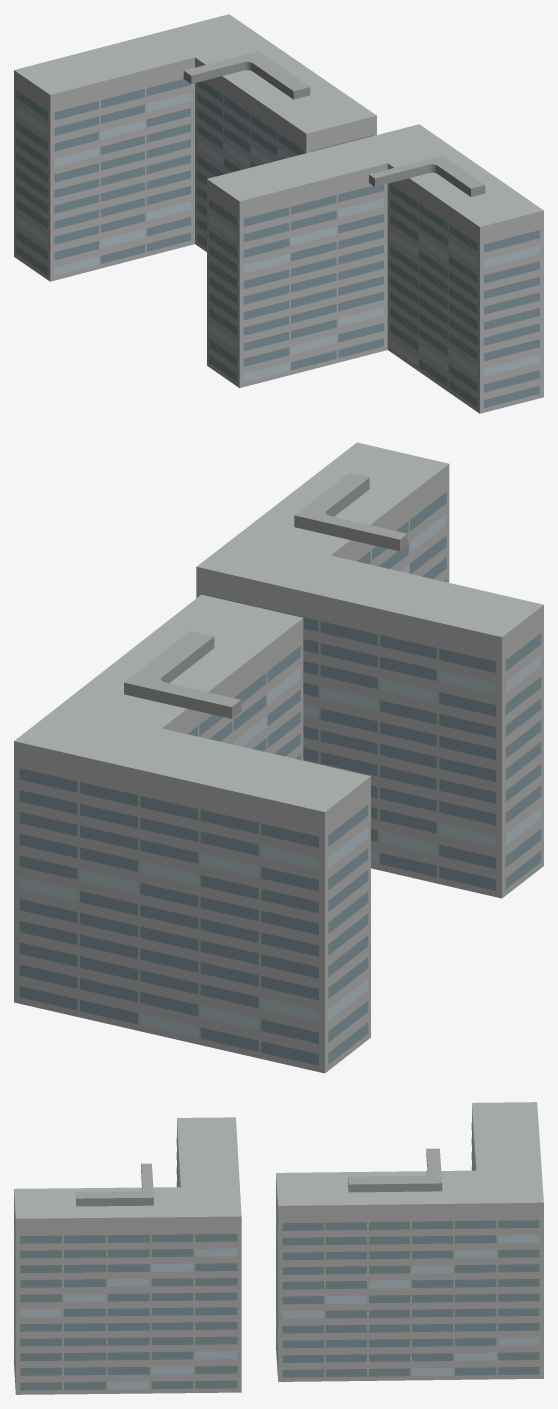
File: apt-a15005602.glb
3 views of the same model, one above another, from view 1: azimuth 30°, elevation 25°; view 2: azimuth 150°, elevation 25°; view 3: azimuth 270°, elevation 25° (orthographic). The views are drawn at different scales.
Visible parts, largest first — view 1: apt-a15005602; view 2: apt-a15005602; view 3: apt-a15005602.
Part boxes in pixels (x1,y1,x2,y2): apt-a15005602: (14,14,543,413); apt-a15005602: (14,442,543,1073); apt-a15005602: (14,1102,543,1394).
Bounding box in the file's own units: 52.06 × 38.25 × 99.83.
